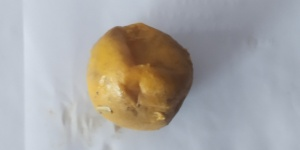BAD: (87, 26, 195, 130)
